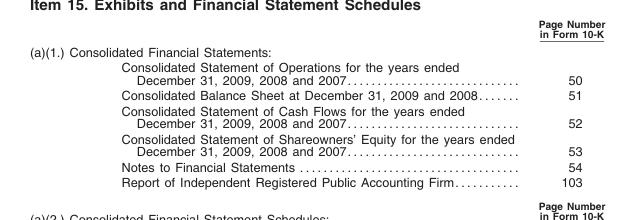table: (28, 29, 603, 188)
table column: (28, 29, 526, 188), (526, 29, 603, 188)
table column header: (28, 29, 603, 42)
table projected row header: (28, 42, 603, 60)
table row: (28, 60, 603, 88), (28, 103, 603, 131), (28, 131, 603, 159), (28, 42, 603, 60), (28, 88, 603, 103), (28, 159, 603, 174), (28, 174, 603, 188), (28, 29, 603, 42)
